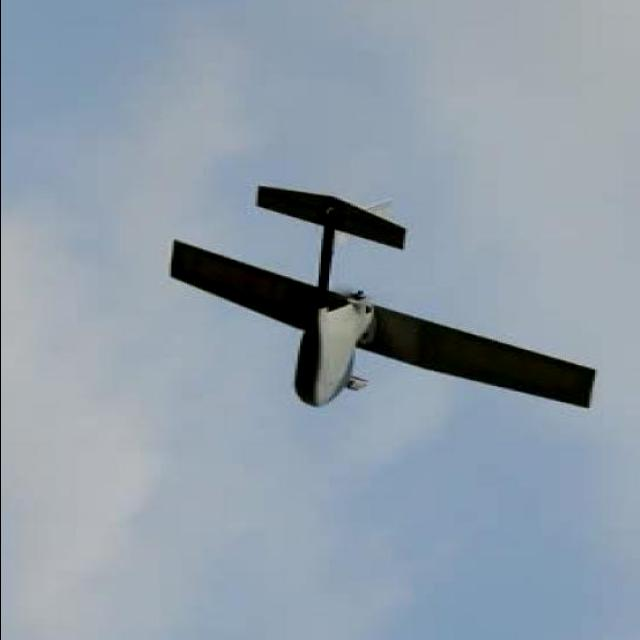plane: (168, 184, 598, 413)
